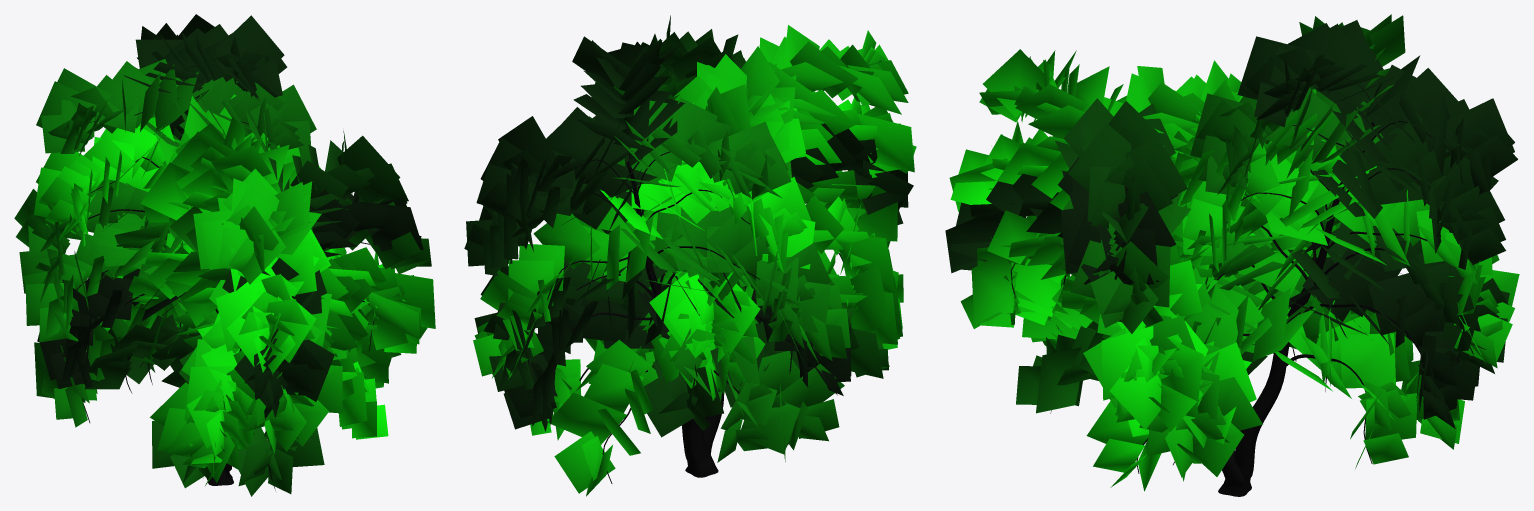
The model's file is Maple_12.fbx.
3 views of the same model, side by side, from view 1: azimuth 30°, elevation 25°; view 2: azimuth 150°, elevation 25°; view 3: azimuth 270°, elevation 25° (orthographic). The views are drawn at different scales.
Parts seen in each view (by area): view 1: Maple_12; view 2: Maple_12; view 3: Maple_12.
Boxes of the visible parts, x1,y1,x2,y2 form: Maple_12: [14, 14, 435, 496]; Maple_12: [464, 15, 916, 496]; Maple_12: [945, 14, 1519, 496].
Size of the model in its own units: 326 by 408 by 447.
